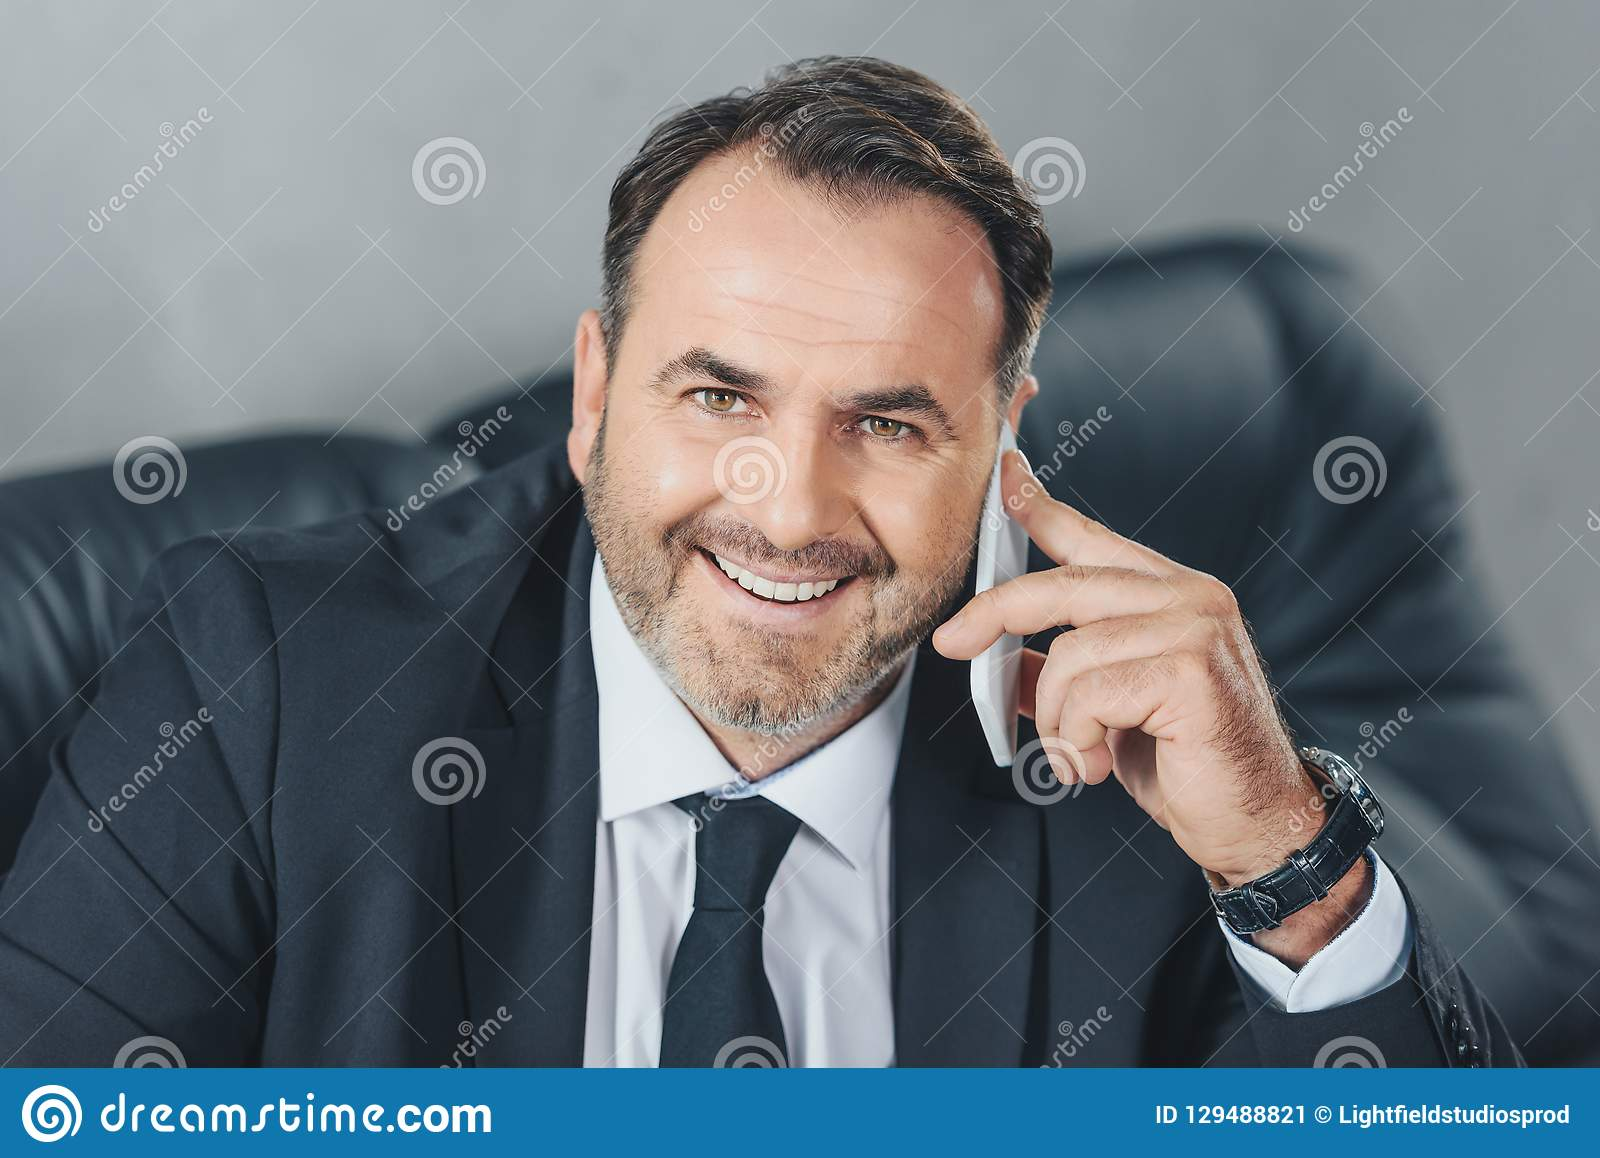phone: (947, 400, 1057, 806)
talk: (624, 332, 1293, 878)
